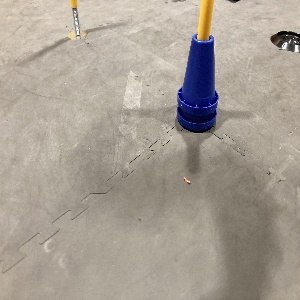Blue_2: (179, 33, 219, 133)
